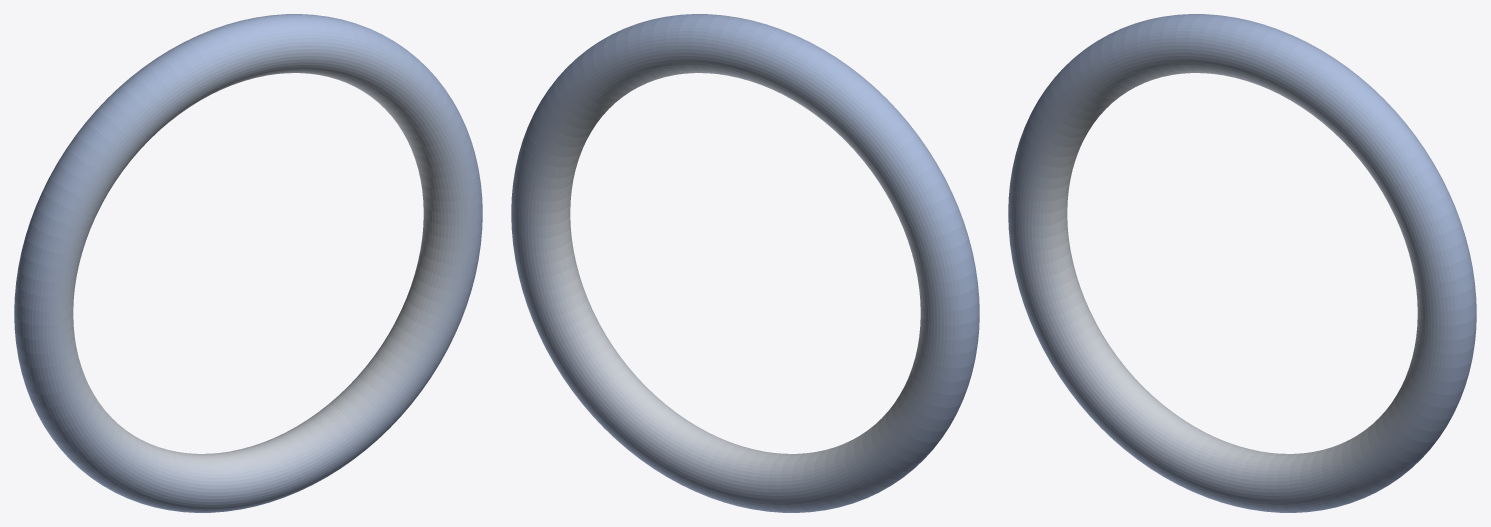
3 renders of one model, left to right at view 1: azimuth 30°, elevation 25°; view 2: azimuth 150°, elevation 25°; view 3: azimuth 330°, elevation 25°, orthographic.
Parts seen in each view (by area): view 1: world; view 2: world; view 3: world.
Boxes of the visible parts, x1,y1,x2,y2 form: world: (14, 14, 482, 512); world: (511, 14, 979, 512); world: (1008, 14, 1476, 512).
Size of the model in its own units: 18 by 18 by 2.
